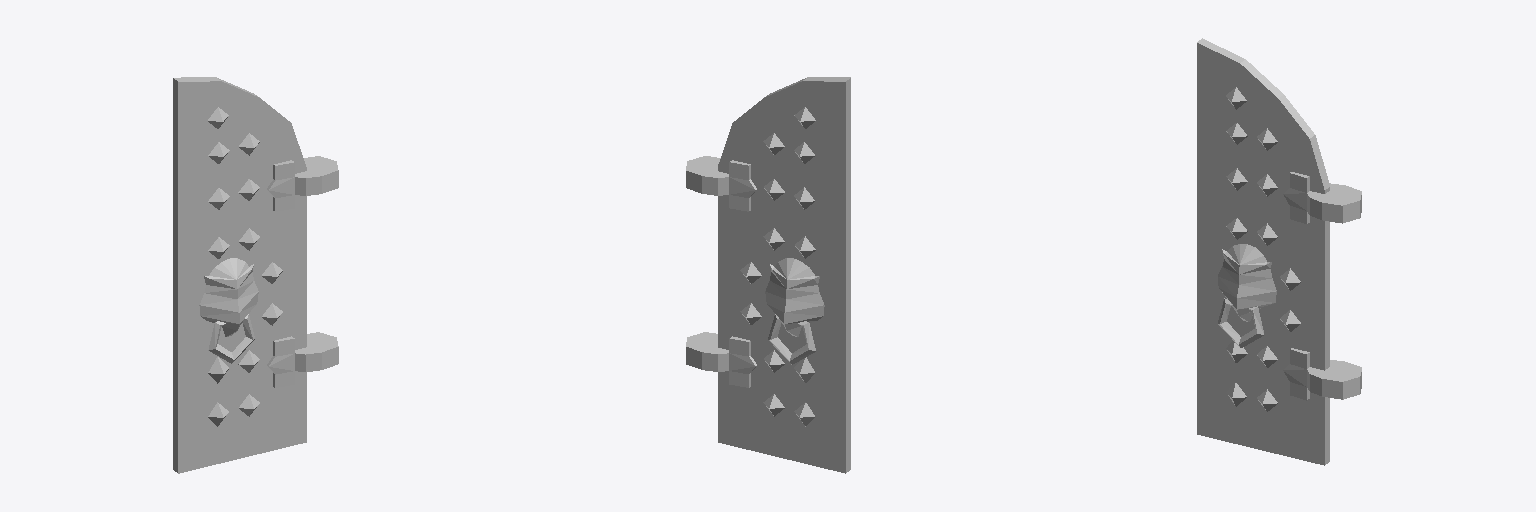
File: ghost-train-door-left.obj
3 views of the same model, side by side, from view 1: azimuth 30°, elevation 25°; view 2: azimuth 150°, elevation 25°; view 3: azimuth 330°, elevation 25° (orthographic).
Parts seen in each view (by area): view 1: door_left_Untitled.001; view 2: door_left_Untitled.001; view 3: door_left_Untitled.001.
Boxes of the visible parts, x1,y1,x2,y2 form: door_left_Untitled.001: [173, 77, 338, 473]; door_left_Untitled.001: [686, 77, 850, 473]; door_left_Untitled.001: [1197, 38, 1361, 465].
Size of the model in its own units: 0.7372 by 1.71 by 0.2113.